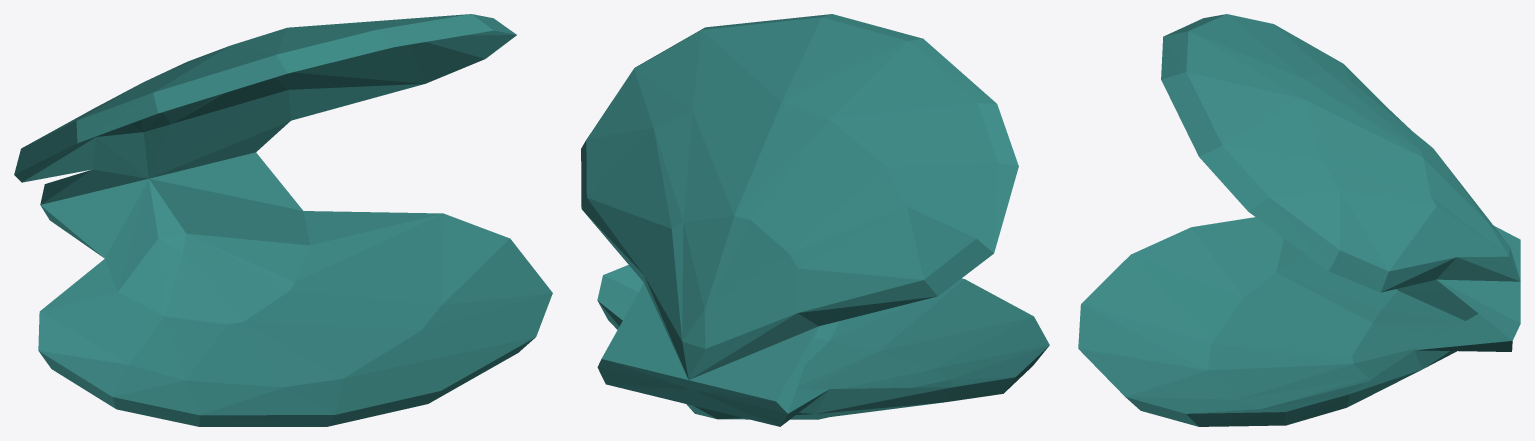
Rendered from SM_Sea_Shell_Scallop_Open_A.fbx.
The picture shows the model from 3 angles, left to right: view 1: azimuth 30°, elevation 25°; view 2: azimuth 150°, elevation 25°; view 3: azimuth 270°, elevation 25°; orthographic projection. The views are drawn at different scales.
Parts seen in each view (by area): view 1: sea-shell-scallop-open-a; view 2: sea-shell-scallop-open-a; view 3: sea-shell-scallop-open-a.
Part boxes in pixels (x1,y1,x2,y2): sea-shell-scallop-open-a: [14, 14, 552, 426]; sea-shell-scallop-open-a: [581, 14, 1049, 426]; sea-shell-scallop-open-a: [1078, 14, 1520, 426].
Bounding box in the file's own units: 0.1651 × 0.1223 × 0.1545.
